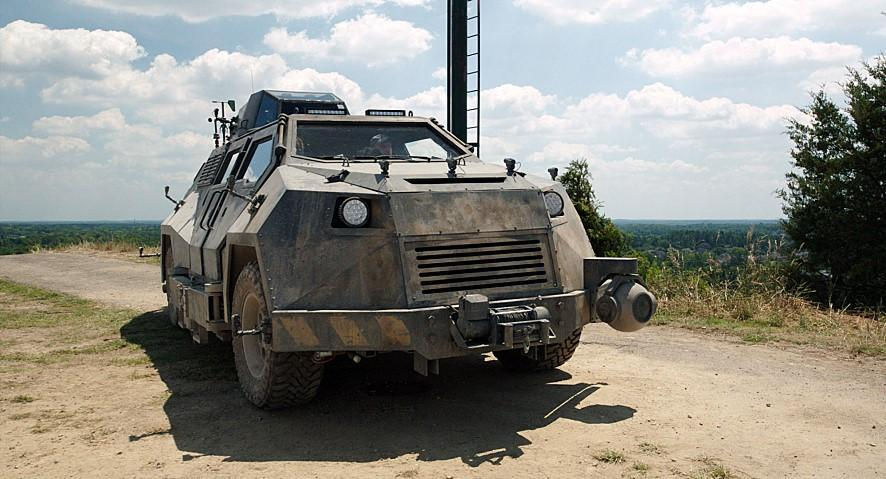MIL_IFV: (154, 87, 658, 415)
